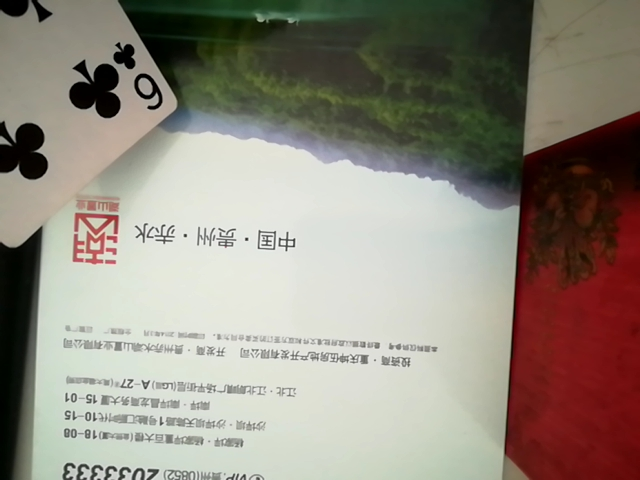mh 6: (0, 9, 176, 251)
